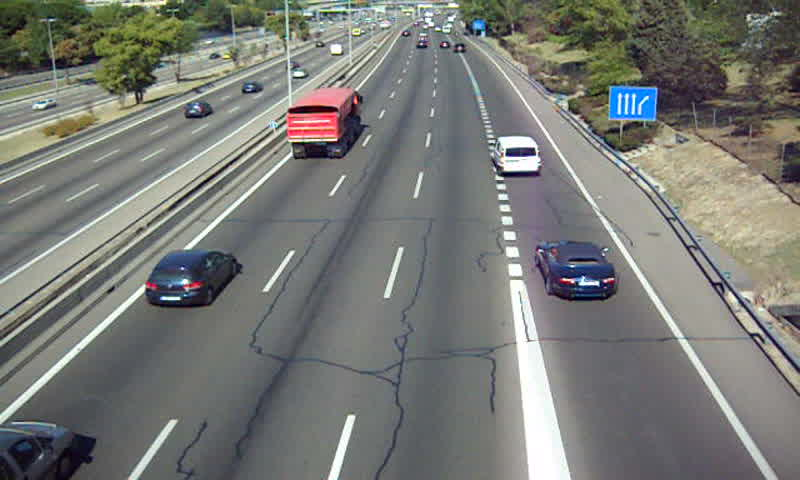car: (146, 249, 239, 305), (534, 241, 619, 299)
truck: (288, 87, 360, 159)
van: (492, 136, 541, 175)
